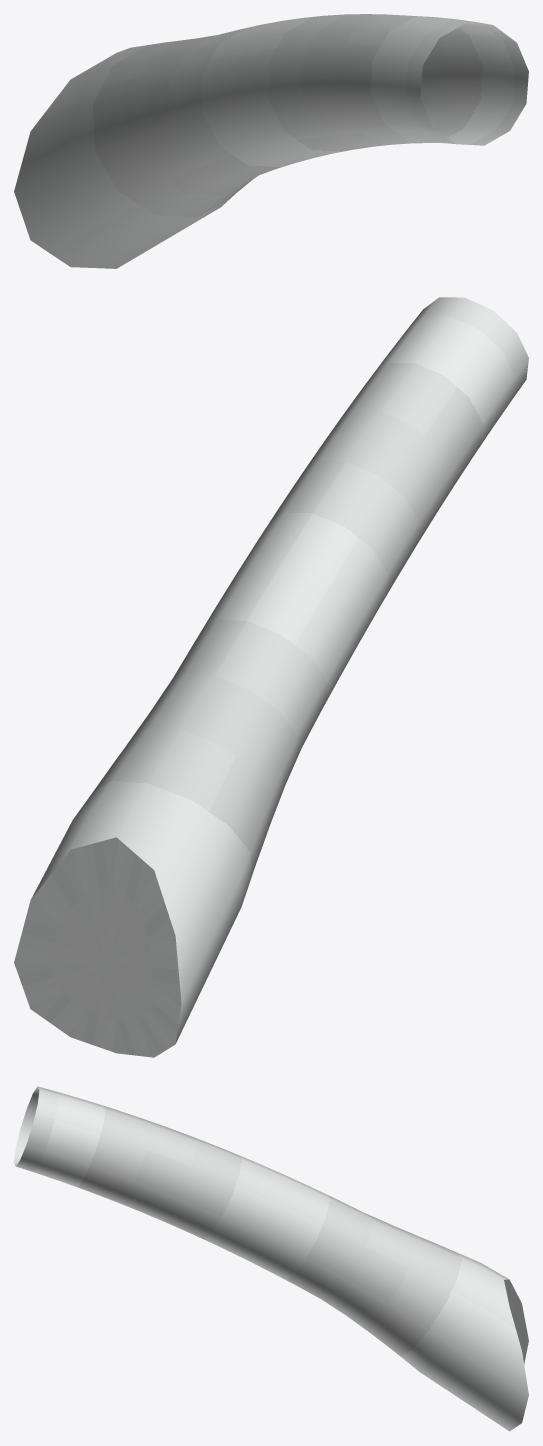
File: luminairearm_caltrans6ftdouble_c3_thin.obj
The picture shows the model from 3 angles, top to bottom: view 1: azimuth 30°, elevation 25°; view 2: azimuth 150°, elevation 25°; view 3: azimuth 270°, elevation 25°; orthographic projection. The views are drawn at different scales.
Visible parts, largest first — view 1: luminairearm_caltrans6ftdouble_c3_thin; view 2: luminairearm_caltrans6ftdouble_c3_thin; view 3: luminairearm_caltrans6ftdouble_c3_thin.
Boxes of the visible parts, left/top/right/bottom form: luminairearm_caltrans6ftdouble_c3_thin: left=14, top=14, right=528, bottom=268; luminairearm_caltrans6ftdouble_c3_thin: left=14, top=297, right=528, bottom=1057; luminairearm_caltrans6ftdouble_c3_thin: left=14, top=1086, right=528, bottom=1431.
Size of the model in its own units: 0.3375 by 0.9638 by 1.35.
